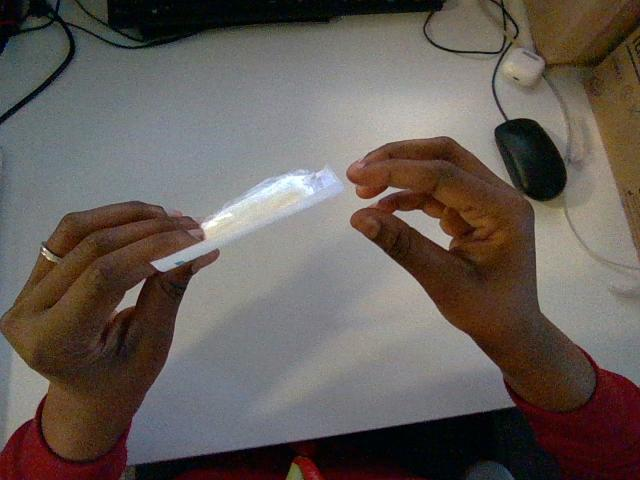gauze: (152, 166, 343, 271)
